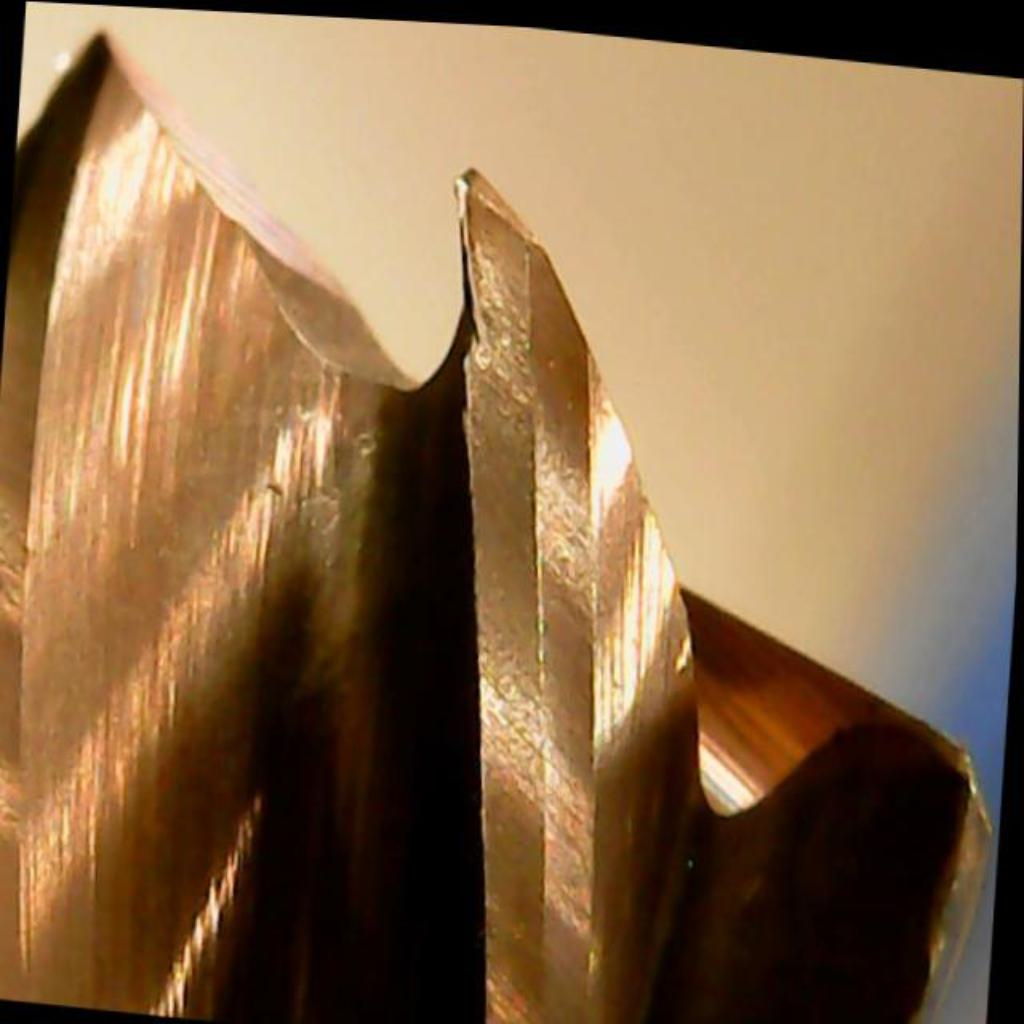Tool-wear-class-1: (398, 157, 652, 666)
